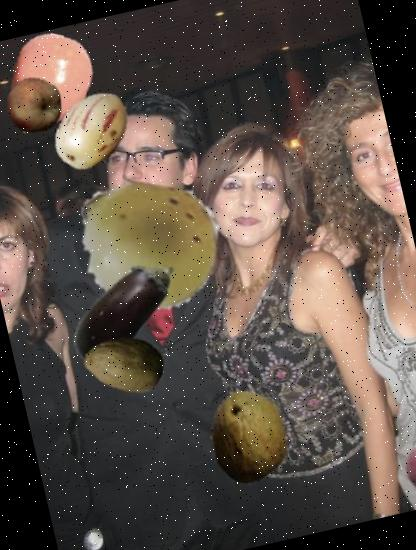Apple: (0, 70, 69, 140)
Clementine: (0, 24, 104, 132)
Eggplant: (44, 230, 202, 388)
Grape: (60, 158, 233, 332)
Onion: (398, 435, 416, 500)
Papaya: (190, 379, 305, 494), (78, 315, 172, 409)
Pepino: (41, 80, 142, 181)
